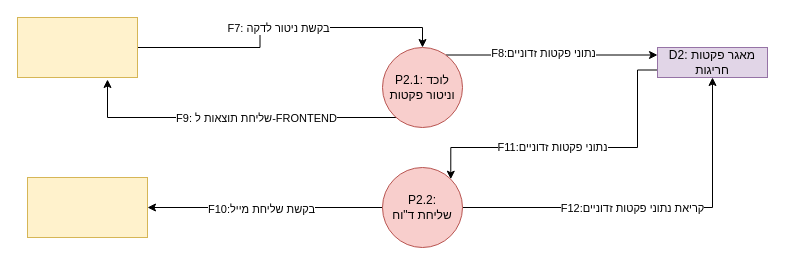
Some shapes in this 785 by 265 pixel diagram are drawn without their labels. Here are the shapes that lost their labels. From the top down, the centre of each, then its label:
At (77,47): "E1:User".
At (87,207): "E2: Mailjet שירות".
